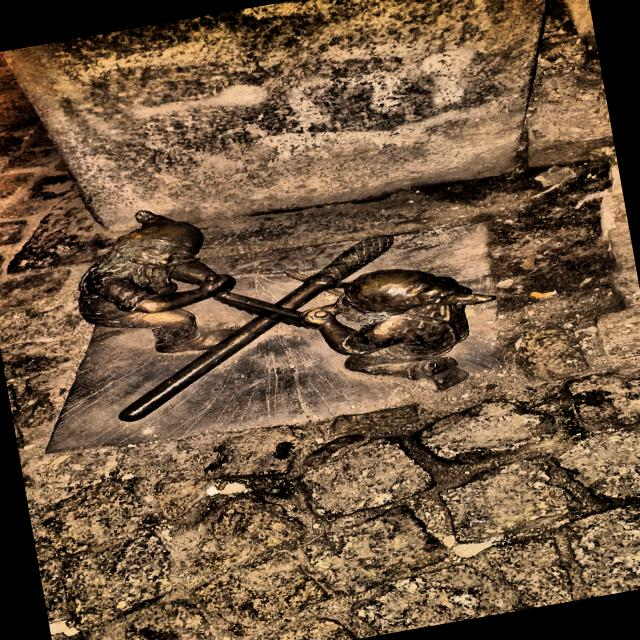Wyrostek i Zadymek: (78, 210, 495, 421)
